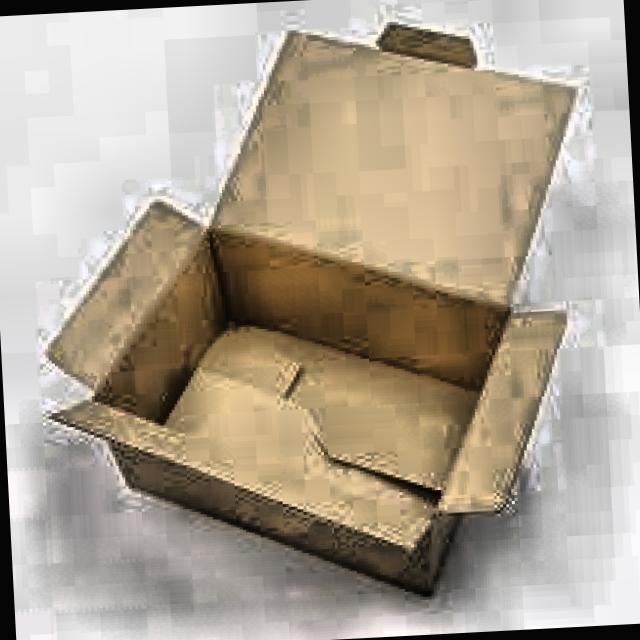cardboard: (26, 10, 604, 612)
